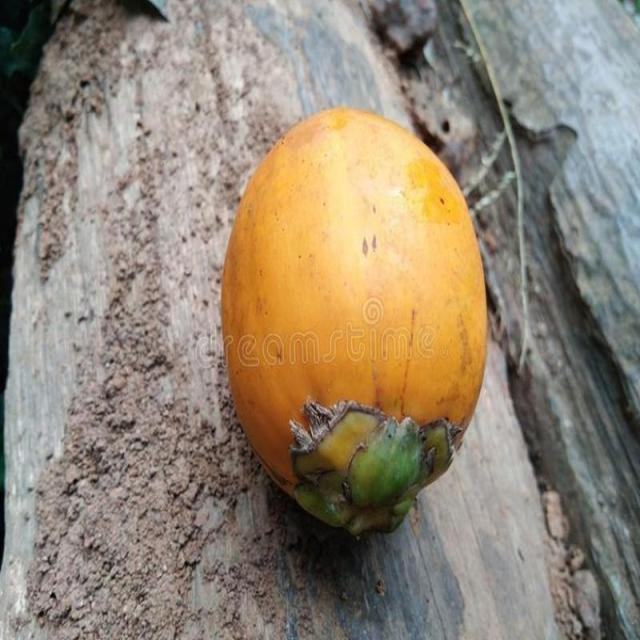good: (221, 107, 489, 540)
